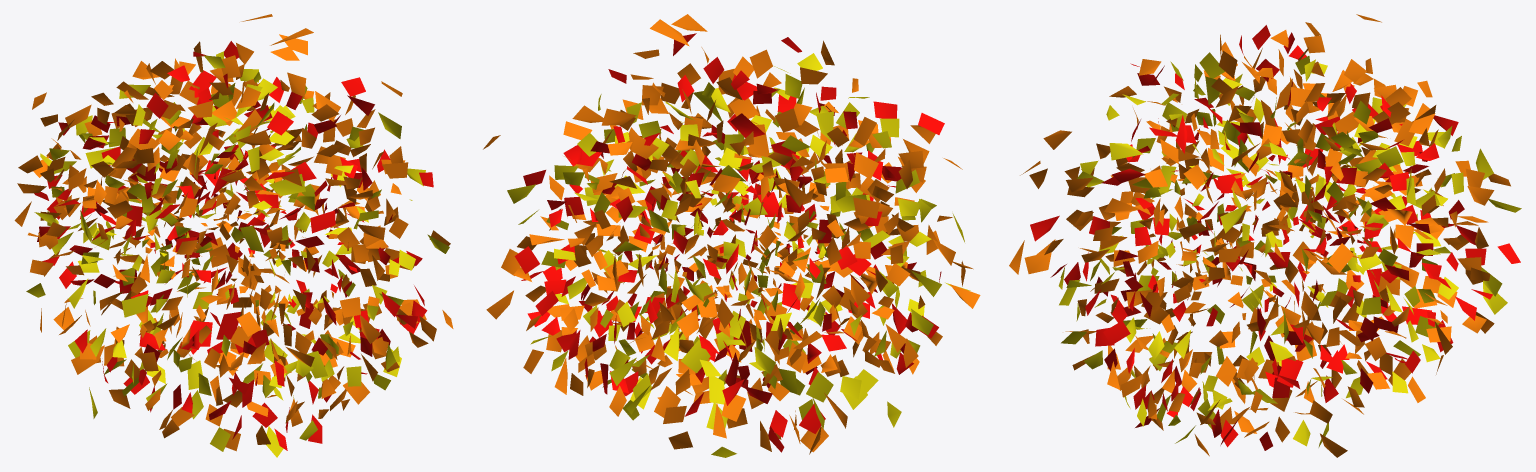
File: leafsDense2.fbx
3 views of the same model, side by side, from view 1: azimuth 30°, elevation 25°; view 2: azimuth 150°, elevation 25°; view 3: azimuth 270°, elevation 25° (orthographic). The views are drawn at different scales.
Parts seen in each view (by area): view 1: leafsDense2_LOD0; view 2: leafsDense2_LOD0; view 3: leafsDense2_LOD0.
Part boxes in pixels (bbox=[...]): leafsDense2_LOD0: bbox=[14, 14, 453, 457]; leafsDense2_LOD0: bbox=[483, 14, 980, 457]; leafsDense2_LOD0: bbox=[1009, 14, 1521, 457].
Size of what is drawn, in the model's own units: 843 by 803 by 878.
